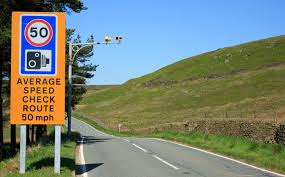Speed_limit_50km: (23, 19, 52, 47)
